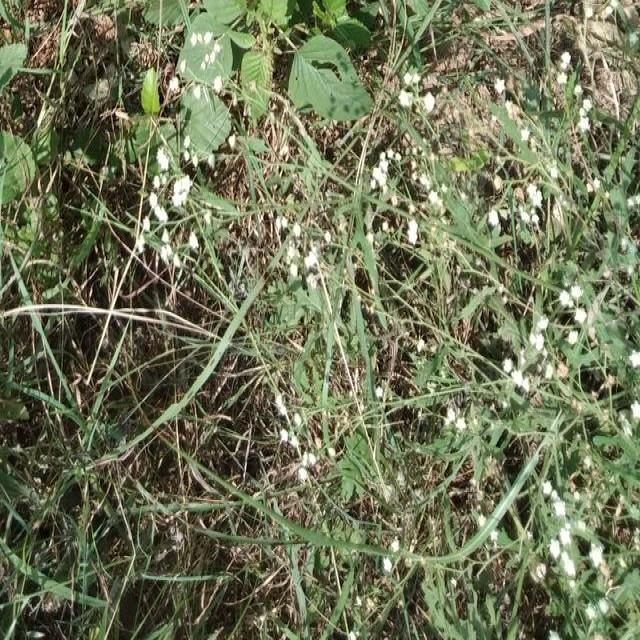weed: (426, 105, 639, 640), (10, 18, 155, 231), (360, 227, 431, 558), (272, 4, 423, 151), (23, 348, 116, 540), (180, 11, 270, 146), (239, 167, 299, 299)
